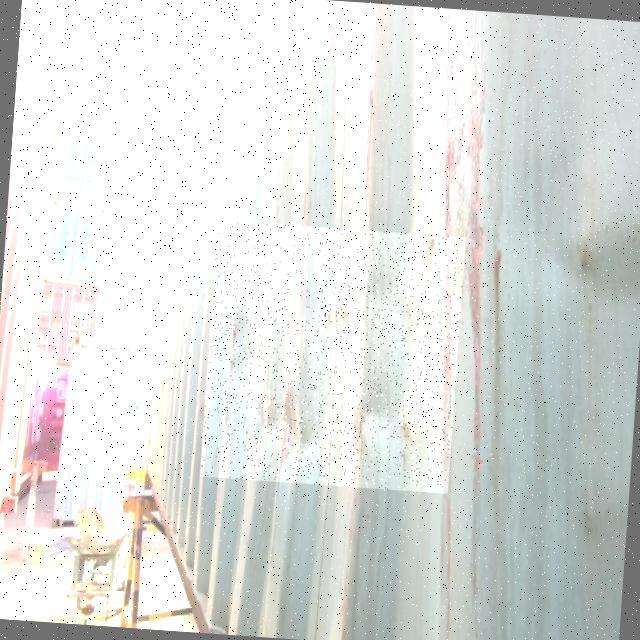Dent: (200, 220, 465, 494)
